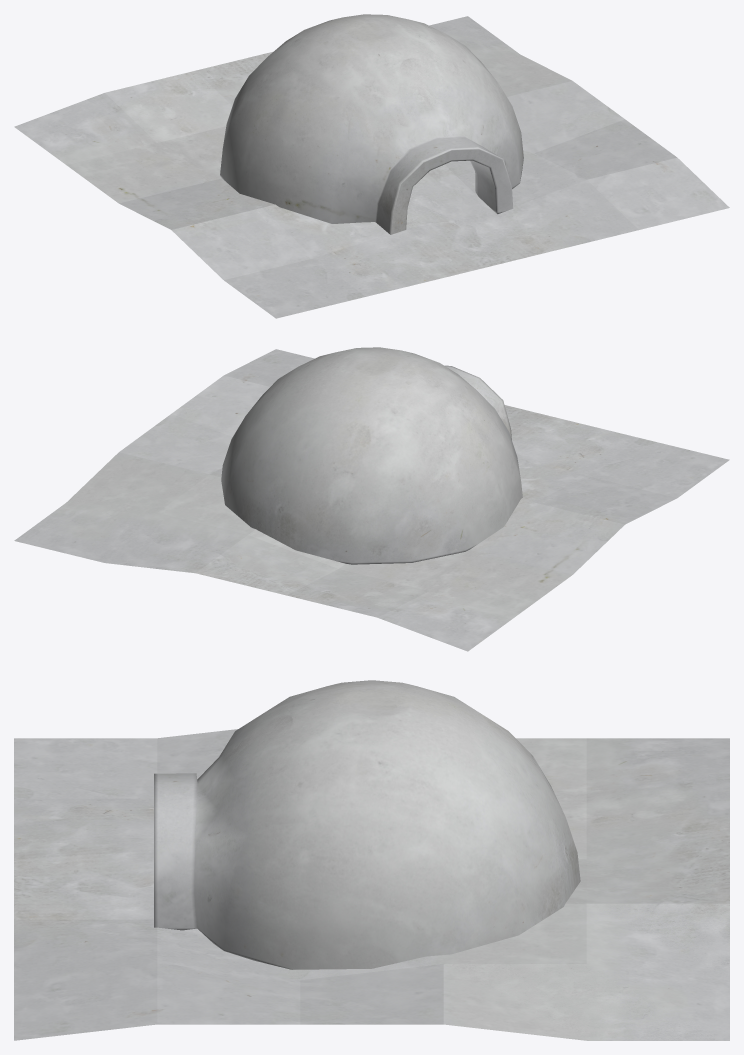
The model's file is igloo.glb.
3 renders of one model, top to bottom at view 1: azimuth 30°, elevation 25°; view 2: azimuth 150°, elevation 25°; view 3: azimuth 270°, elevation 25°, orthographic. The views are drawn at different scales.
Parts seen in each view (by area): view 1: ground_1, igloo_0; view 2: ground_1, igloo_0; view 3: ground_1, igloo_0.
Boxes of the visible parts, x1,y1,x2,y2 form: ground_1: (14,16,729,318); igloo_0: (220,14,523,234); ground_1: (14,349,729,651); igloo_0: (221,347,522,564); ground_1: (14,729,729,1040); igloo_0: (154,680,580,969).
Bounding box in the file's own units: 3.42 × 0.9841 × 3.42.
2 materials, 2 textured.
